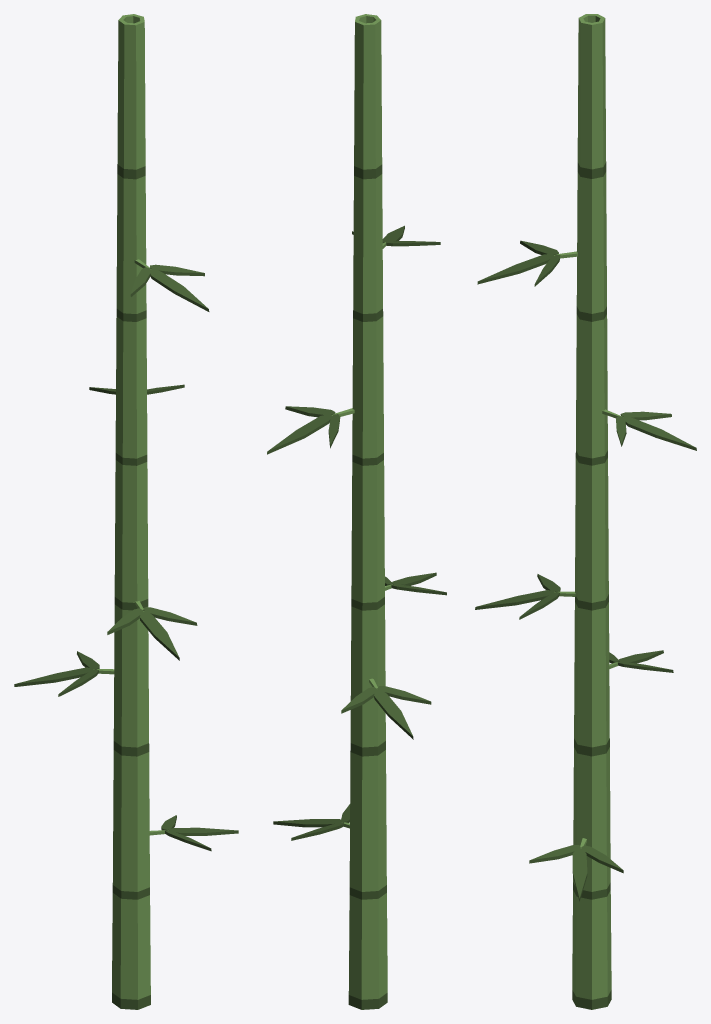
The model's file is tree_bamboo_1.glb.
3 renders of one model, left to right at view 1: azimuth 30°, elevation 25°; view 2: azimuth 150°, elevation 25°; view 3: azimuth 270°, elevation 25°, orthographic.
Visible parts, largest first — view 1: tree_bamboo_1; view 2: tree_bamboo_1; view 3: tree_bamboo_1.
Part boxes in pixels (x1=…): tree_bamboo_1: x1=14, y1=14, x2=238, y2=1009; tree_bamboo_1: x1=267, y1=14, x2=446, y2=1009; tree_bamboo_1: x1=475, y1=14, x2=696, y2=1009.
Bounding box in the file's own units: 1.75 × 9 × 1.84.
